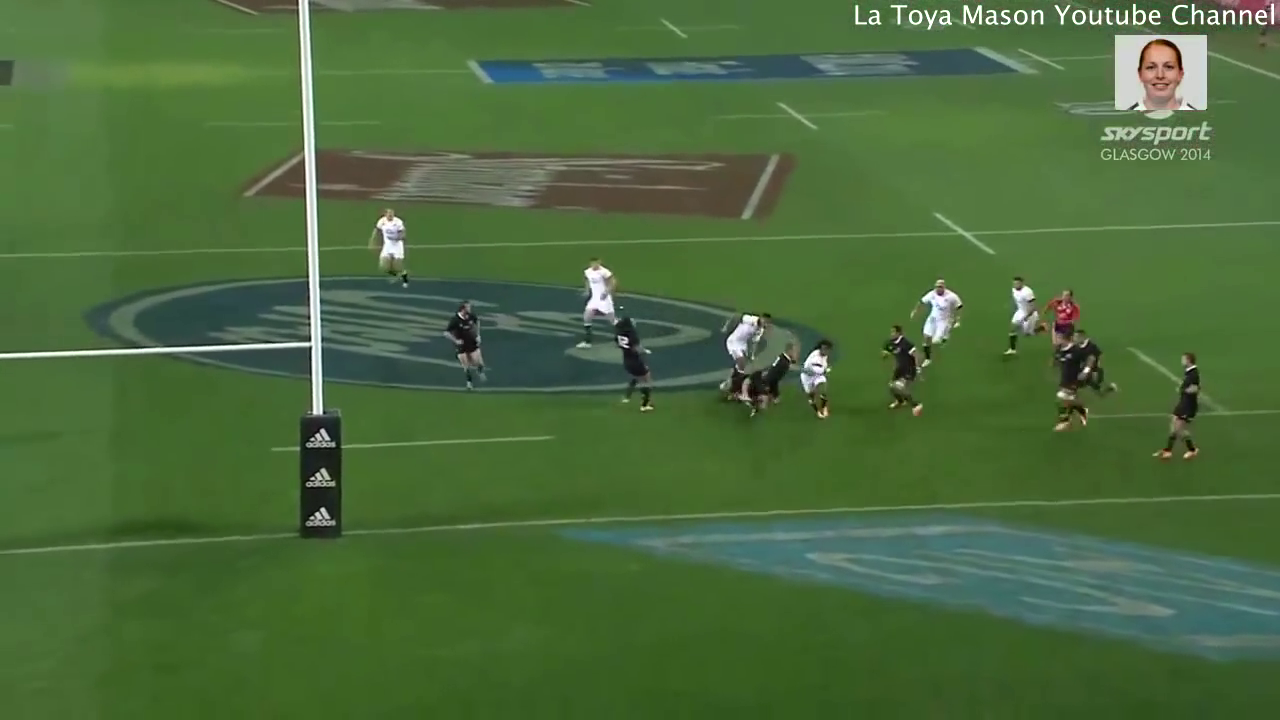10_metre: (709, 91, 880, 136)
player: (1148, 353, 1208, 463), (1036, 322, 1089, 435), (878, 326, 932, 427), (361, 202, 416, 292), (911, 268, 960, 367), (714, 304, 781, 373), (609, 330, 658, 416), (575, 256, 622, 344), (789, 339, 842, 417), (444, 300, 490, 388), (742, 347, 798, 416), (1003, 270, 1038, 356), (1078, 329, 1119, 398), (1038, 285, 1074, 328)
post: (1, 150, 362, 550)
